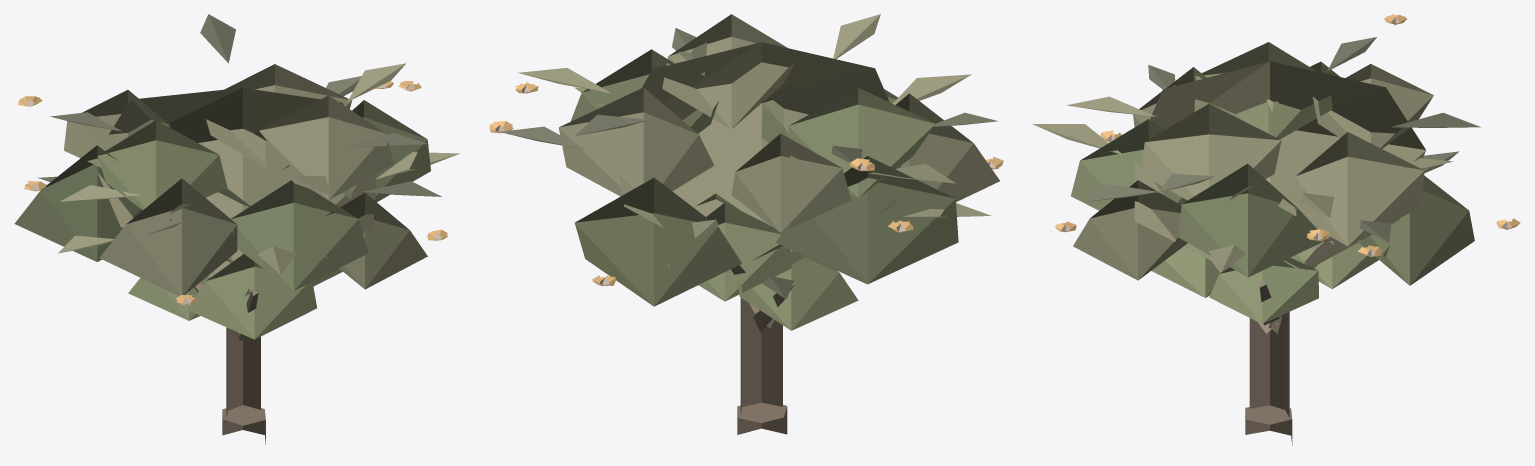
Rendered from shu.fenghuang@flowering__winter.glb.
3 views of the same model, side by side, from view 1: azimuth 30°, elevation 25°; view 2: azimuth 150°, elevation 25°; view 3: azimuth 270°, elevation 25° (orthographic). The views are drawn at different scales.
Parts seen in each view (by area): view 1: shu.fenghuang@flowering__winter; view 2: shu.fenghuang@flowering__winter; view 3: shu.fenghuang@flowering__winter.
Part boxes in pixels (box(x1,y1,x2,y2)): shu.fenghuang@flowering__winter: box(14, 14, 459, 444); shu.fenghuang@flowering__winter: box(489, 14, 1003, 434); shu.fenghuang@flowering__winter: box(1032, 14, 1520, 445).
Bounding box in the file's own units: 14.45 × 12.07 × 14.61.
